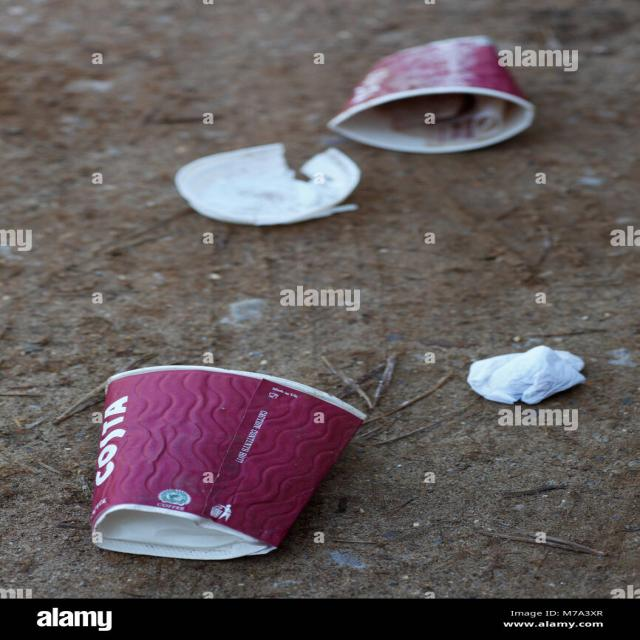paper_cup: (93, 357, 370, 564), (333, 35, 558, 172)
